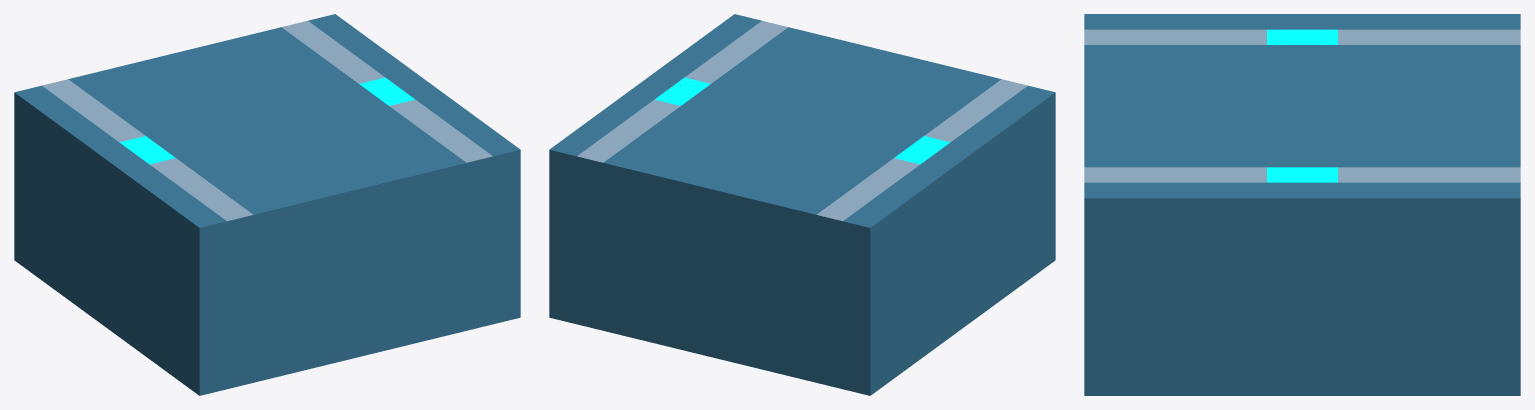
Rendered from model_tile_border_single_middle.fbx.
3 renders of one model, left to right at view 1: azimuth 30°, elevation 25°; view 2: azimuth 150°, elevation 25°; view 3: azimuth 270°, elevation 25°, orthographic. The views are drawn at different scales.
Visible parts, largest first — view 1: tile_border_single_middle; view 2: tile_border_single_middle; view 3: tile_border_single_middle.
Boxes of the visible parts, x1,y1,x2,y2 form: tile_border_single_middle: (14, 14, 520, 395); tile_border_single_middle: (549, 14, 1055, 395); tile_border_single_middle: (1084, 14, 1520, 395).
Size of the model in its own units: 60.96 by 30.48 by 60.96.
